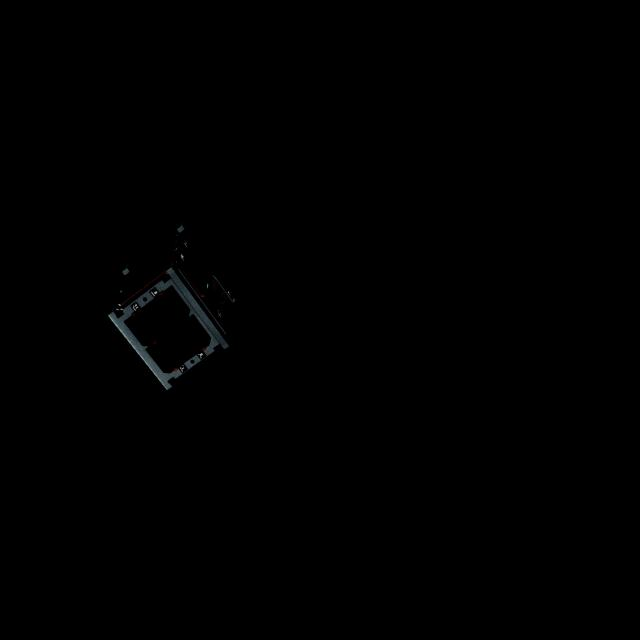satellite: (98, 219, 245, 392)
